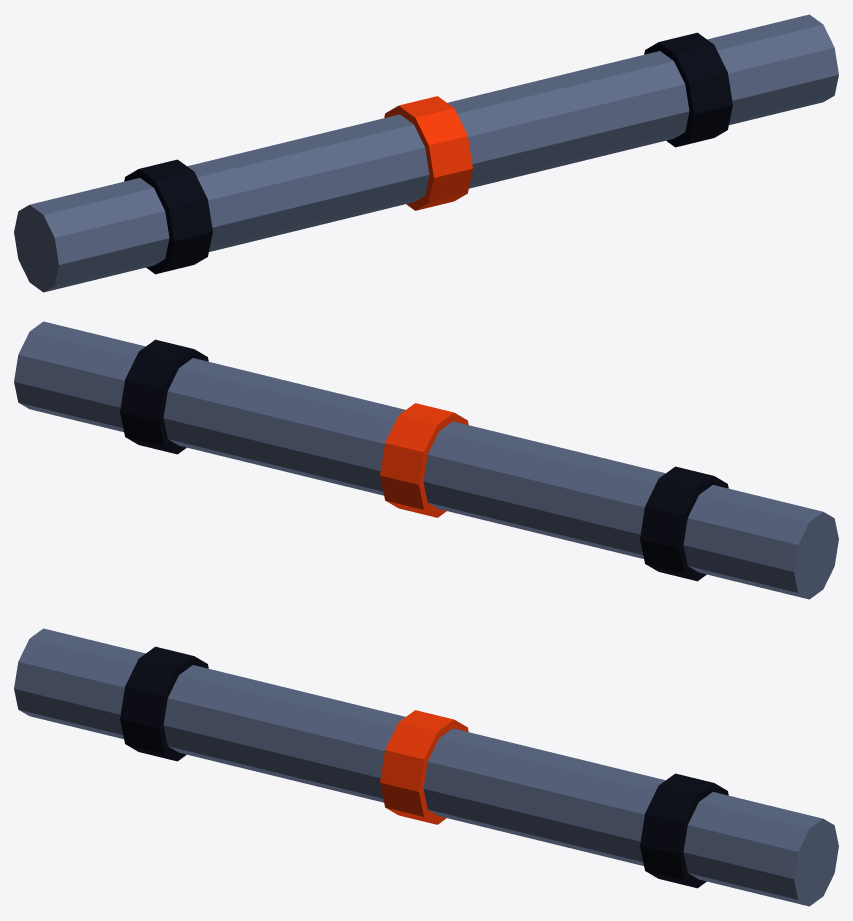
The model's file is pipe_straight.obj.
3 renders of one model, top to bottom at view 1: azimuth 30°, elevation 25°; view 2: azimuth 150°, elevation 25°; view 3: azimuth 330°, elevation 25°, orthographic.
Parts seen in each view (by area): view 1: pipe_straight; view 2: pipe_straight; view 3: pipe_straight.
Part boxes in pixels (x1,y1,x2,y2): pipe_straight: (14, 14, 838, 292); pipe_straight: (14, 321, 838, 599); pipe_straight: (14, 628, 838, 906).
Size of the model in its own units: 3 by 0.3424 by 0.36.
